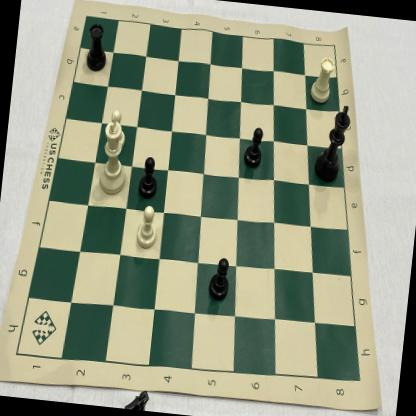king: (86, 110, 136, 199), (310, 100, 354, 188)
pawn: (204, 247, 235, 306), (129, 200, 162, 252), (239, 120, 268, 174), (100, 105, 130, 154), (135, 151, 163, 201)
rook: (78, 16, 113, 75), (306, 52, 340, 112)
